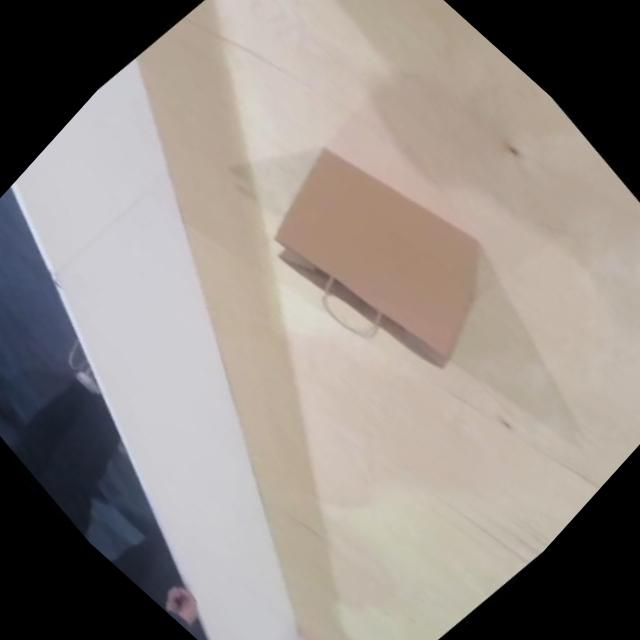Kardus: (244, 119, 526, 395)
